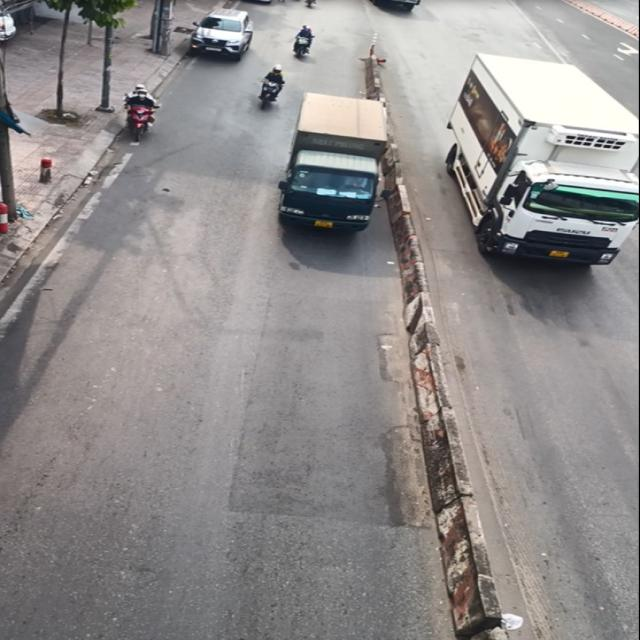motor: (119, 81, 172, 146), (248, 64, 290, 108)
truck: (451, 49, 640, 284), (281, 92, 400, 242)
